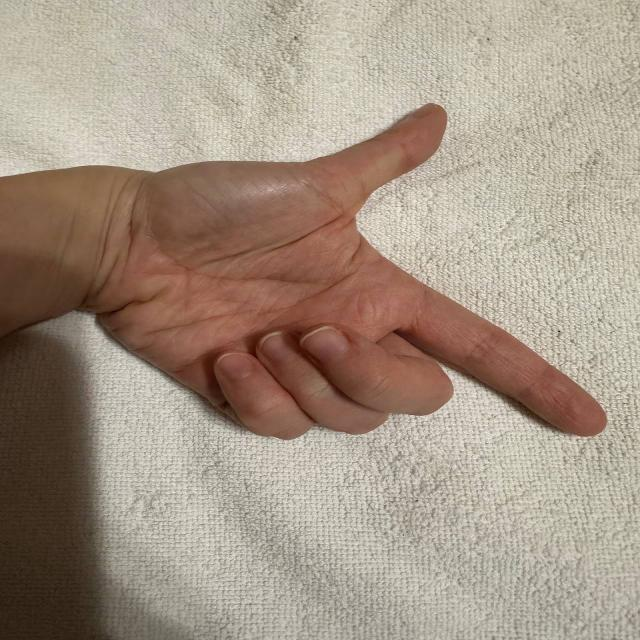g: (120, 108, 609, 450)
